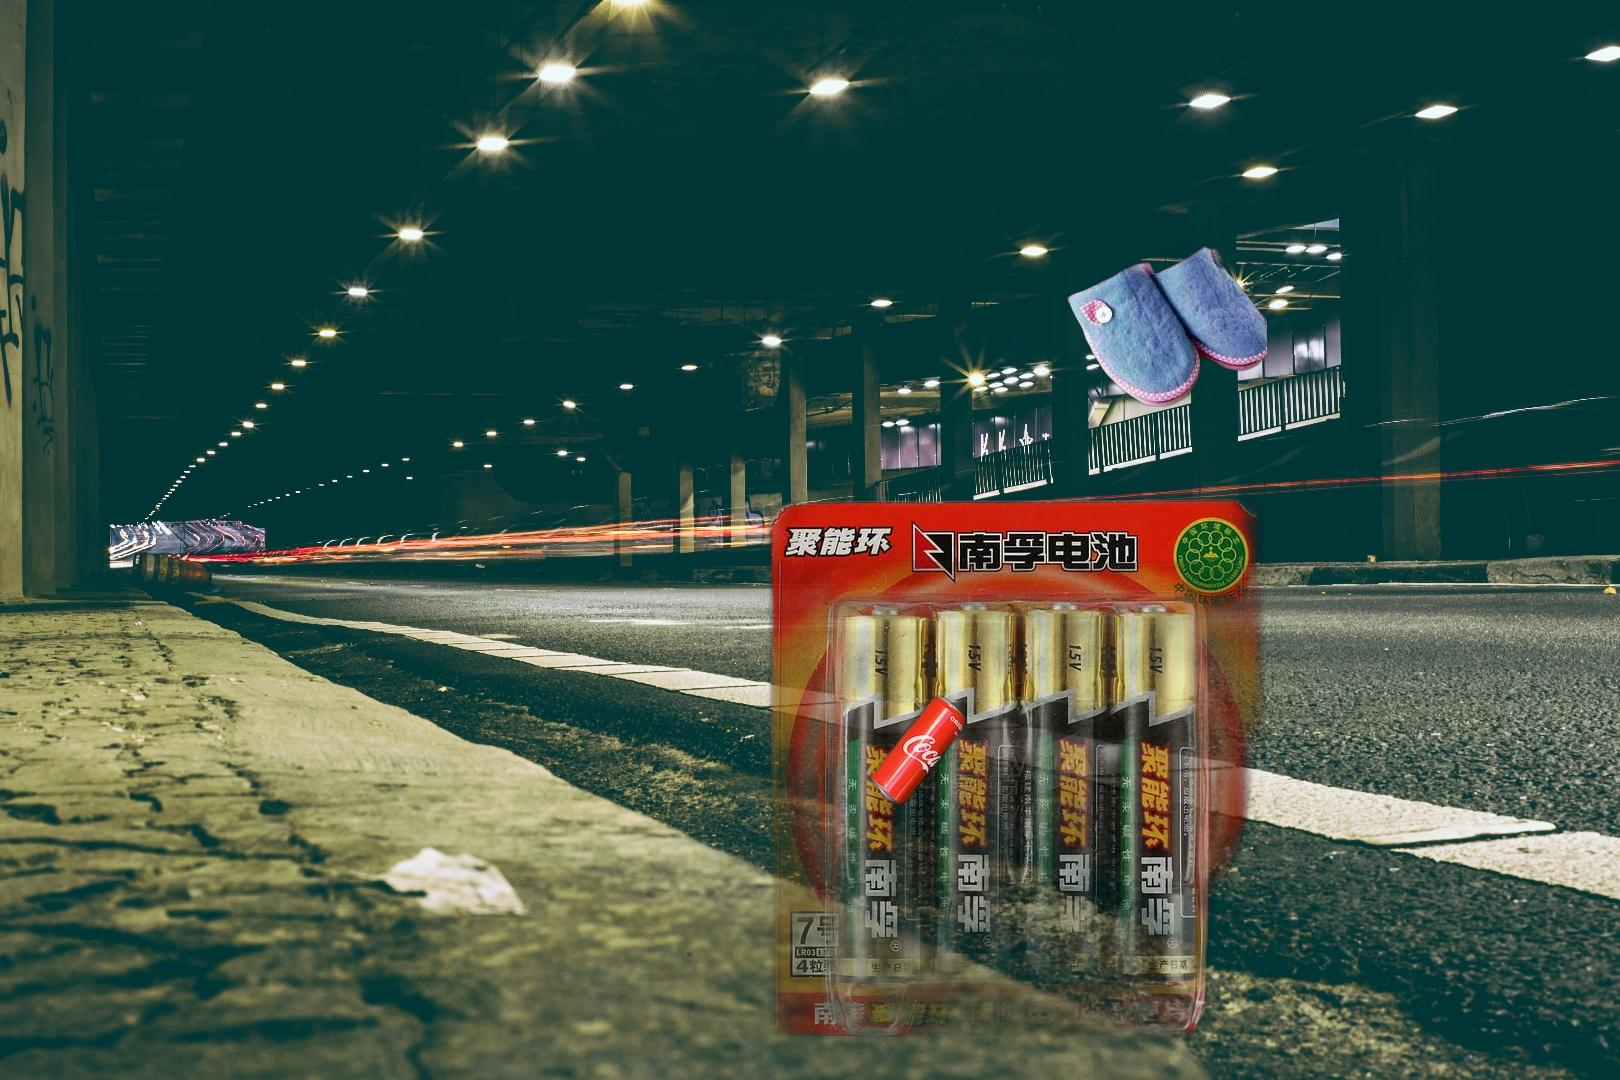battery: (733, 488, 1313, 1066)
metal-cans: (560, 253, 970, 937)
shoes: (1067, 228, 1267, 410)
